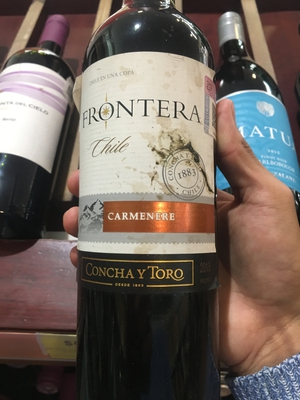frontera carmenere: (72, 6, 243, 389)
